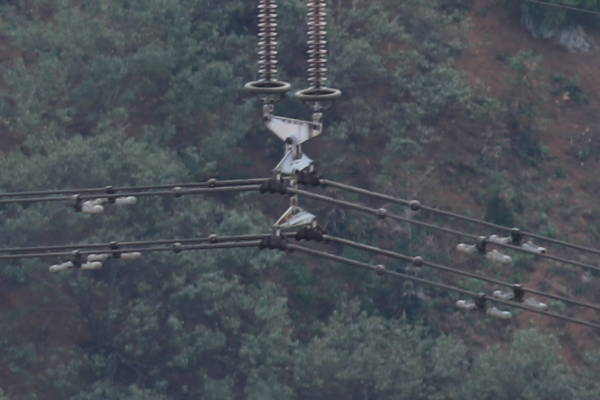damper: (454, 233, 515, 267), (452, 290, 513, 323), (487, 224, 547, 256), (491, 280, 549, 312), (44, 249, 102, 273), (86, 239, 143, 262), (85, 184, 137, 208)
damper_defect: (62, 192, 103, 214)
